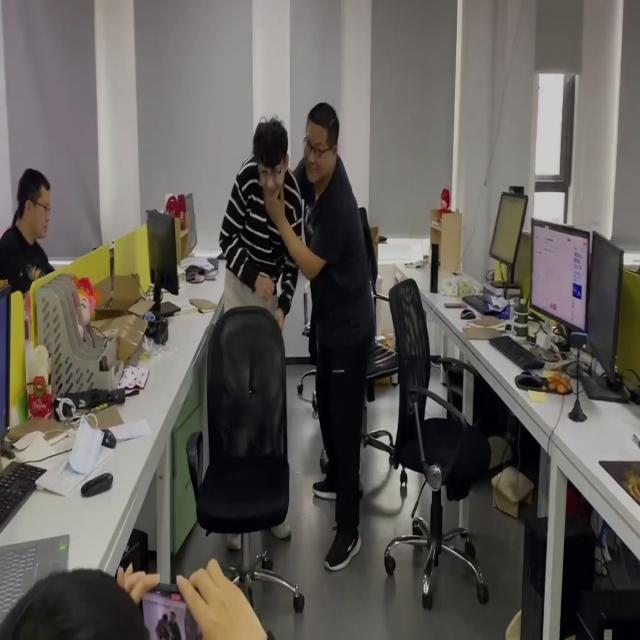fight: (217, 100, 373, 571)
